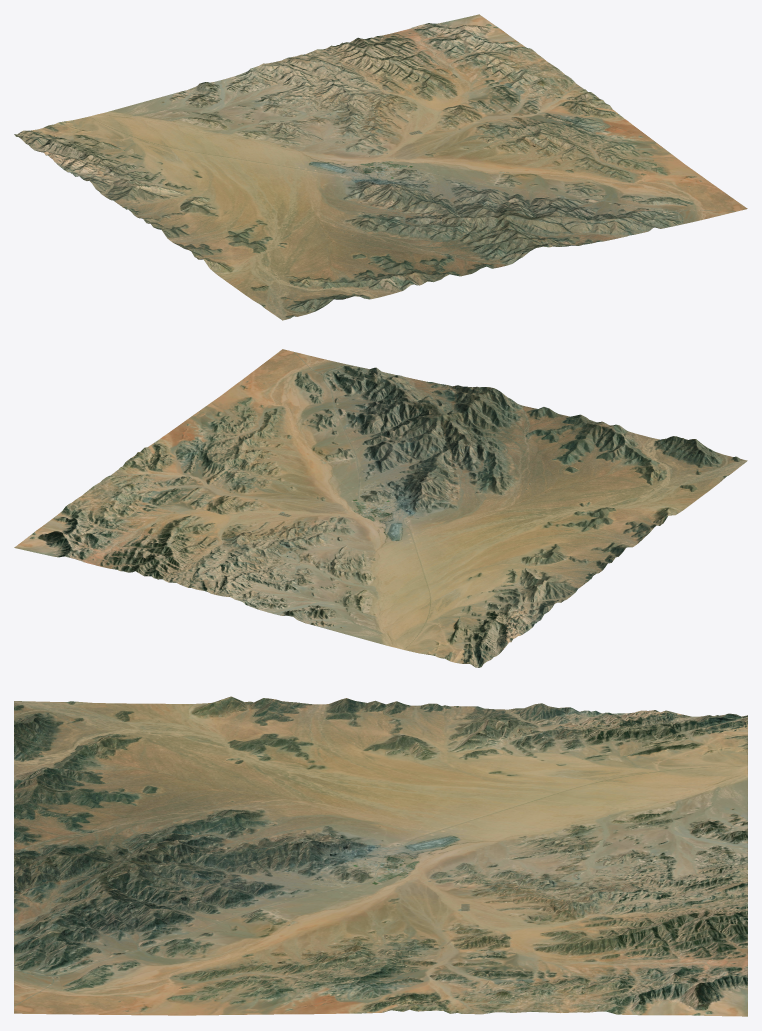
The model's file is Terrain.FBX.
The picture shows the model from 3 angles, top to bottom: view 1: azimuth 30°, elevation 25°; view 2: azimuth 150°, elevation 25°; view 3: azimuth 270°, elevation 25°; orthographic projection. The views are drawn at different scales.
Parts seen in each view (by area): view 1: TerrainMesh; view 2: TerrainMesh; view 3: TerrainMesh.
Part boxes in pixels (left/top/right/bottom): TerrainMesh: left=14, top=14, right=747, bottom=320; TerrainMesh: left=14, top=349, right=747, bottom=667; TerrainMesh: left=14, top=696, right=747, bottom=1016.
Bounding box in the file's own units: 20000 × 946 × 20000.
Materials: 1 (1 with a texture image).
